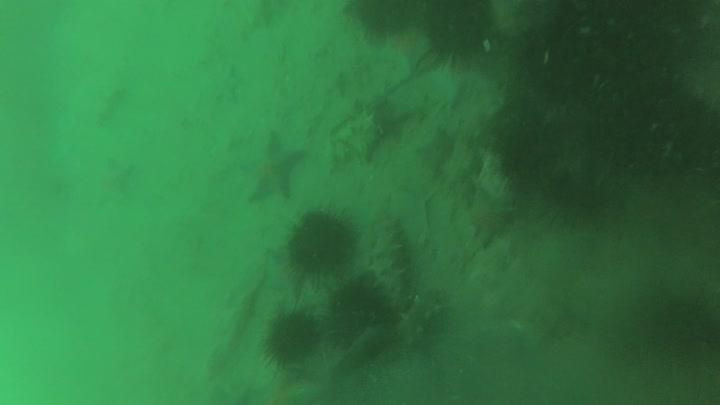echinus: (624, 281, 718, 364), (493, 105, 567, 186), (325, 276, 398, 355), (283, 206, 360, 279), (419, 1, 496, 64), (260, 304, 323, 369), (345, 1, 422, 40)
holothurian: (366, 216, 411, 312), (327, 106, 384, 168), (393, 287, 449, 350)
starfish: (236, 130, 309, 206), (385, 67, 464, 119), (464, 182, 519, 250), (372, 24, 434, 74), (244, 372, 324, 404), (259, 249, 303, 305)
